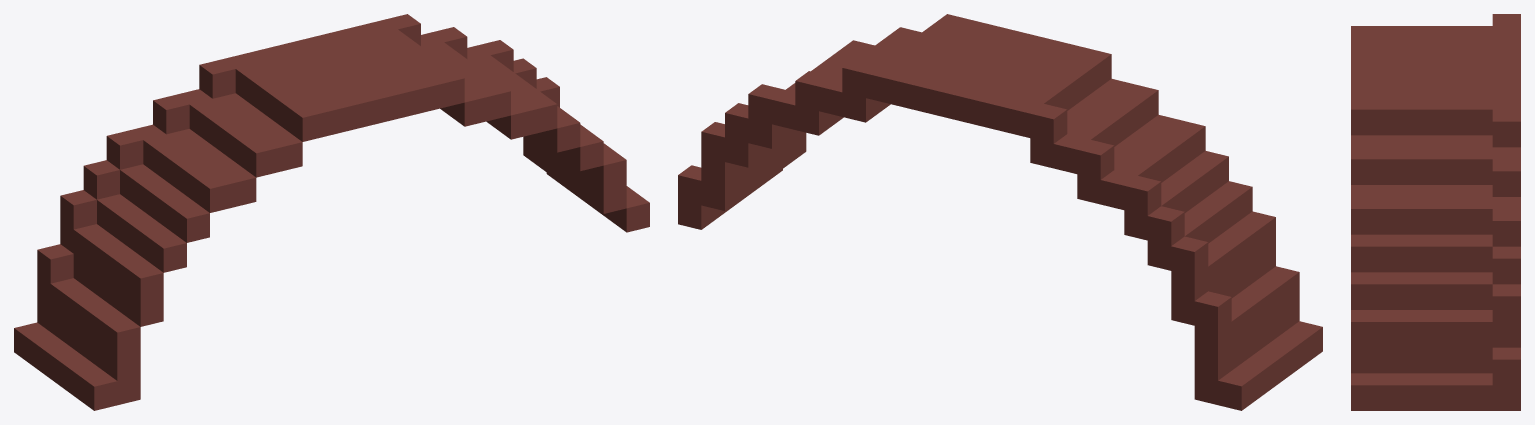
File: chopper_rear_fender.glb
The picture shows the model from 3 angles, left to right: view 1: azimuth 30°, elevation 25°; view 2: azimuth 150°, elevation 25°; view 3: azimuth 270°, elevation 25°; orthographic projection. The views are drawn at different scales.
Parts seen in each view (by area): view 1: body:compound; view 2: body:compound; view 3: body:compound.
Part boxes in pixels (bbox=[...]): body:compound: bbox=[14, 14, 649, 410]; body:compound: bbox=[678, 14, 1322, 410]; body:compound: bbox=[1351, 14, 1520, 410].
Size of the model in its own units: 0.75 by 0.3125 by 0.1875.
